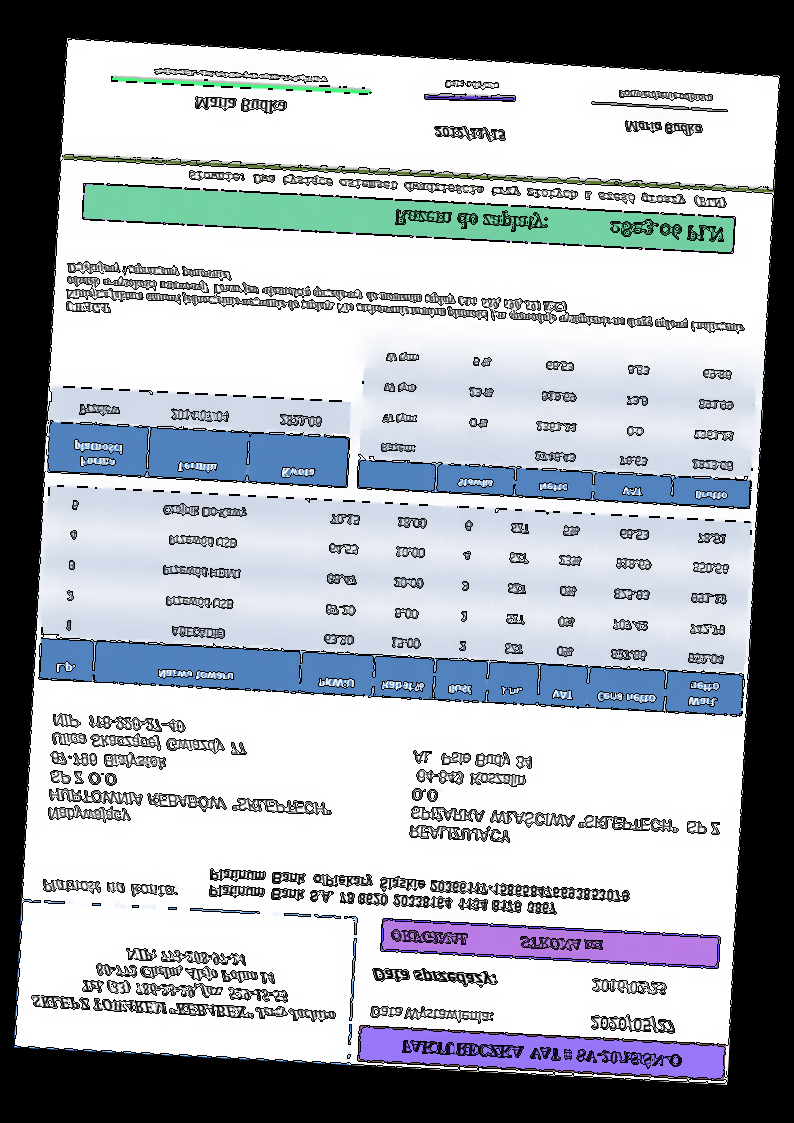Table: (37, 481, 753, 719), (354, 335, 759, 511), (46, 384, 354, 490)
TextBox: (63, 258, 747, 351), (45, 711, 339, 838), (406, 748, 726, 857), (28, 937, 340, 1028), (207, 863, 634, 922), (183, 167, 728, 212), (389, 201, 727, 248), (400, 1034, 689, 1075), (388, 926, 606, 956), (150, 66, 331, 87), (40, 876, 178, 902), (366, 1003, 496, 1028), (370, 964, 500, 988), (588, 1011, 679, 1038), (191, 93, 291, 117), (616, 87, 715, 106), (621, 118, 706, 138), (591, 978, 669, 998), (431, 124, 509, 144), (441, 77, 503, 94)
